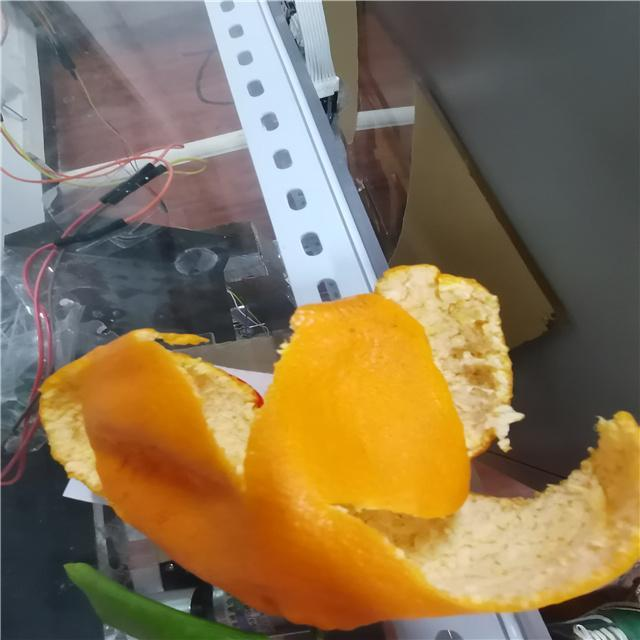orange-peel: (38, 277, 637, 628)
